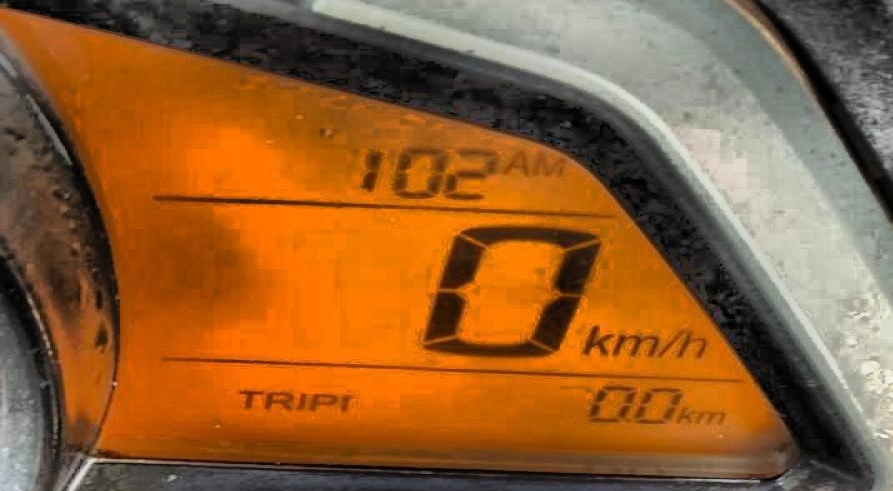-: (621, 416, 631, 423)
0: (416, 221, 600, 358), (388, 142, 444, 200), (583, 383, 633, 424), (633, 385, 678, 425)
1: (353, 145, 383, 194), (336, 393, 350, 413)
2: (445, 145, 496, 200)
X: (611, 330, 656, 357), (581, 322, 611, 356), (530, 149, 565, 176), (501, 147, 528, 175), (658, 325, 681, 357), (676, 330, 701, 357), (261, 391, 293, 408), (308, 391, 334, 411), (235, 389, 260, 408), (696, 409, 723, 424), (674, 404, 693, 423), (295, 390, 306, 409)
